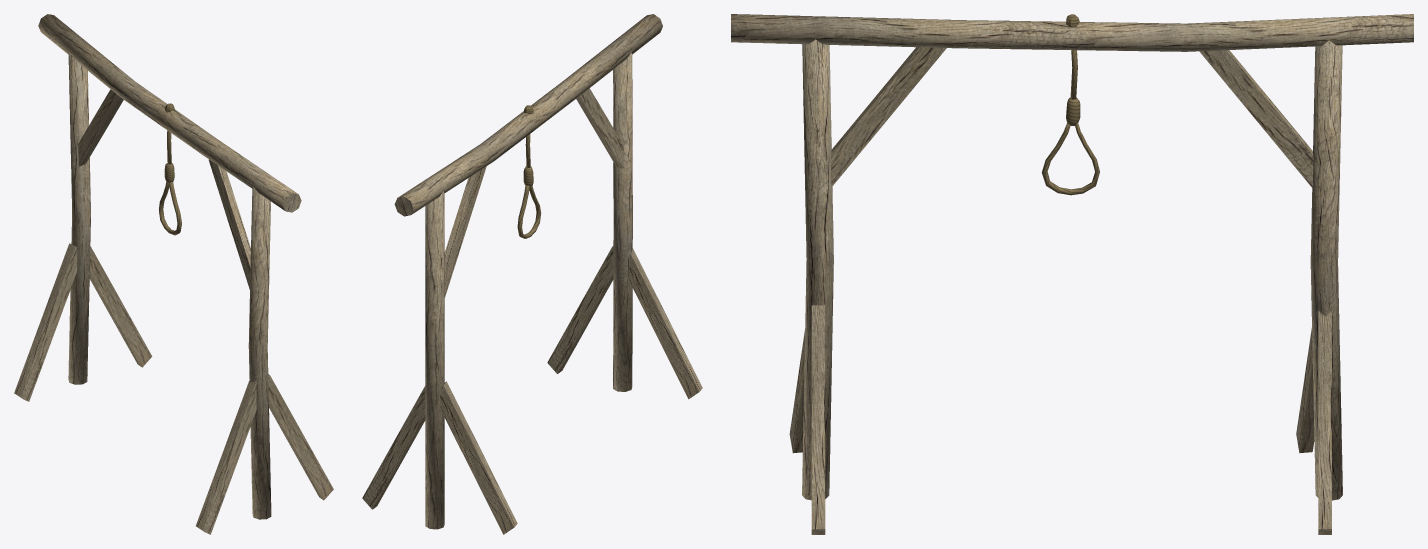
3 renders of one model, left to right at view 1: azimuth 30°, elevation 25°; view 2: azimuth 150°, elevation 25°; view 3: azimuth 270°, elevation 25°, orthographic. The views are drawn at different scales.
Visible parts, largest first — view 1: gallow; view 2: gallow; view 3: gallow.
Part boxes in pixels (bbox=[...]): gallow: bbox=[14, 14, 333, 534]; gallow: bbox=[362, 14, 702, 534]; gallow: bbox=[731, 14, 1413, 534].
Size of the model in its own units: 2.66 by 6.2 by 7.97.
Materials: 1 (1 with a texture image).
